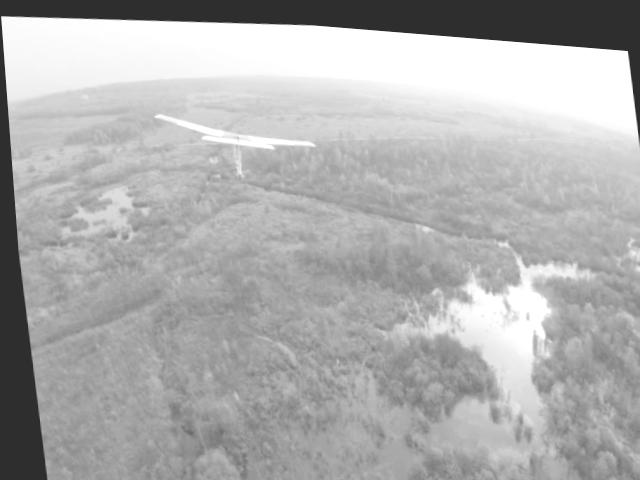hedef: (149, 84, 326, 201)
